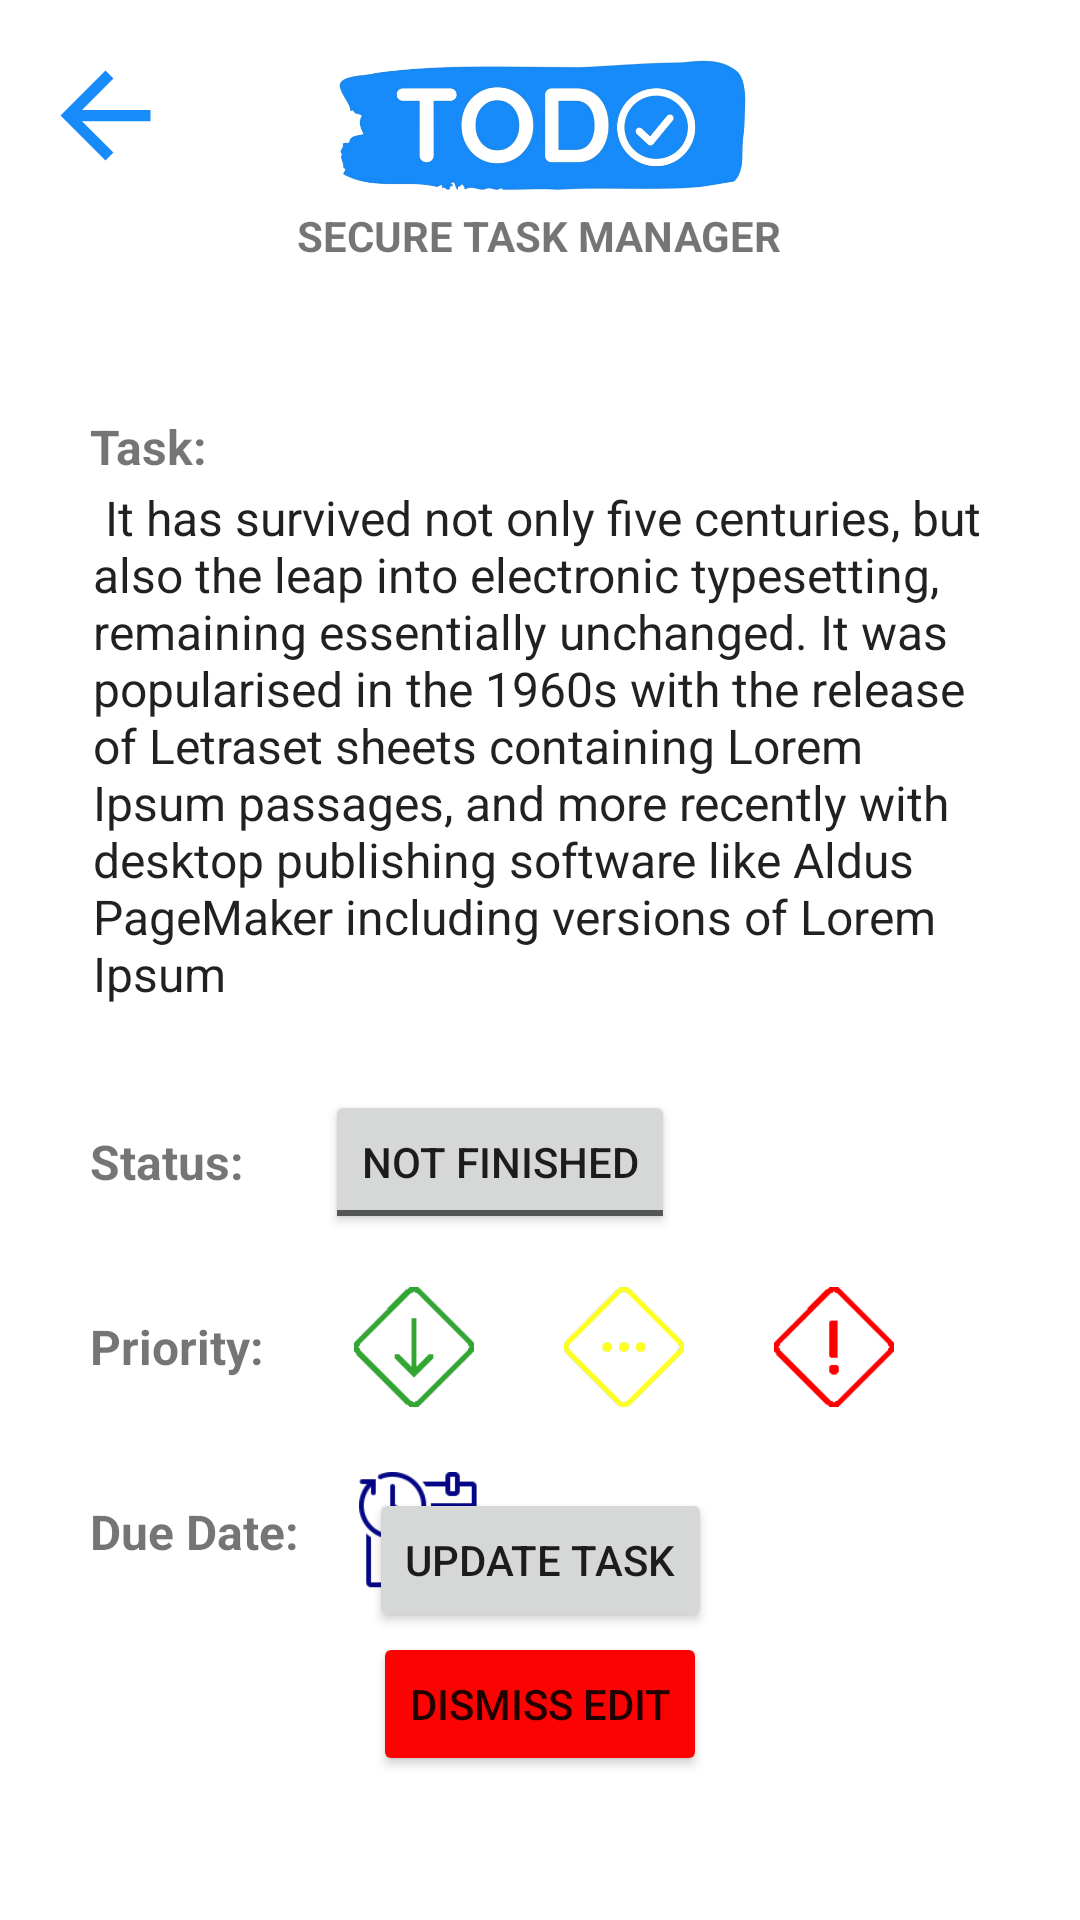

Icon click points for this 1080 x 1920 phone screenshot, format [x,y]:
arrow back: [105,115]
high priority: [834,1347]
med priority: [624,1347]
